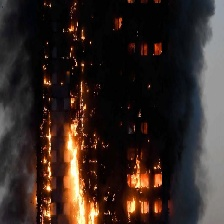fire: (61, 126, 101, 224), (121, 154, 170, 218), (41, 129, 54, 221), (69, 79, 90, 122), (63, 19, 90, 45), (40, 73, 54, 88)
smoke: (172, 2, 213, 224), (3, 1, 35, 215)
